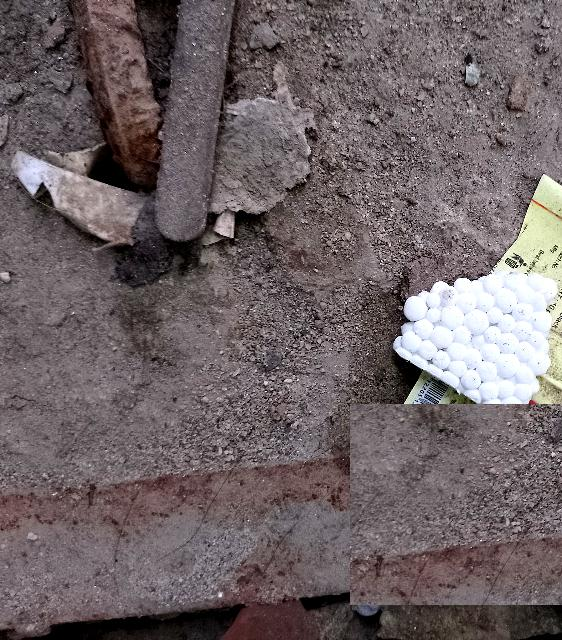cocksheet: (378, 237, 562, 440)
